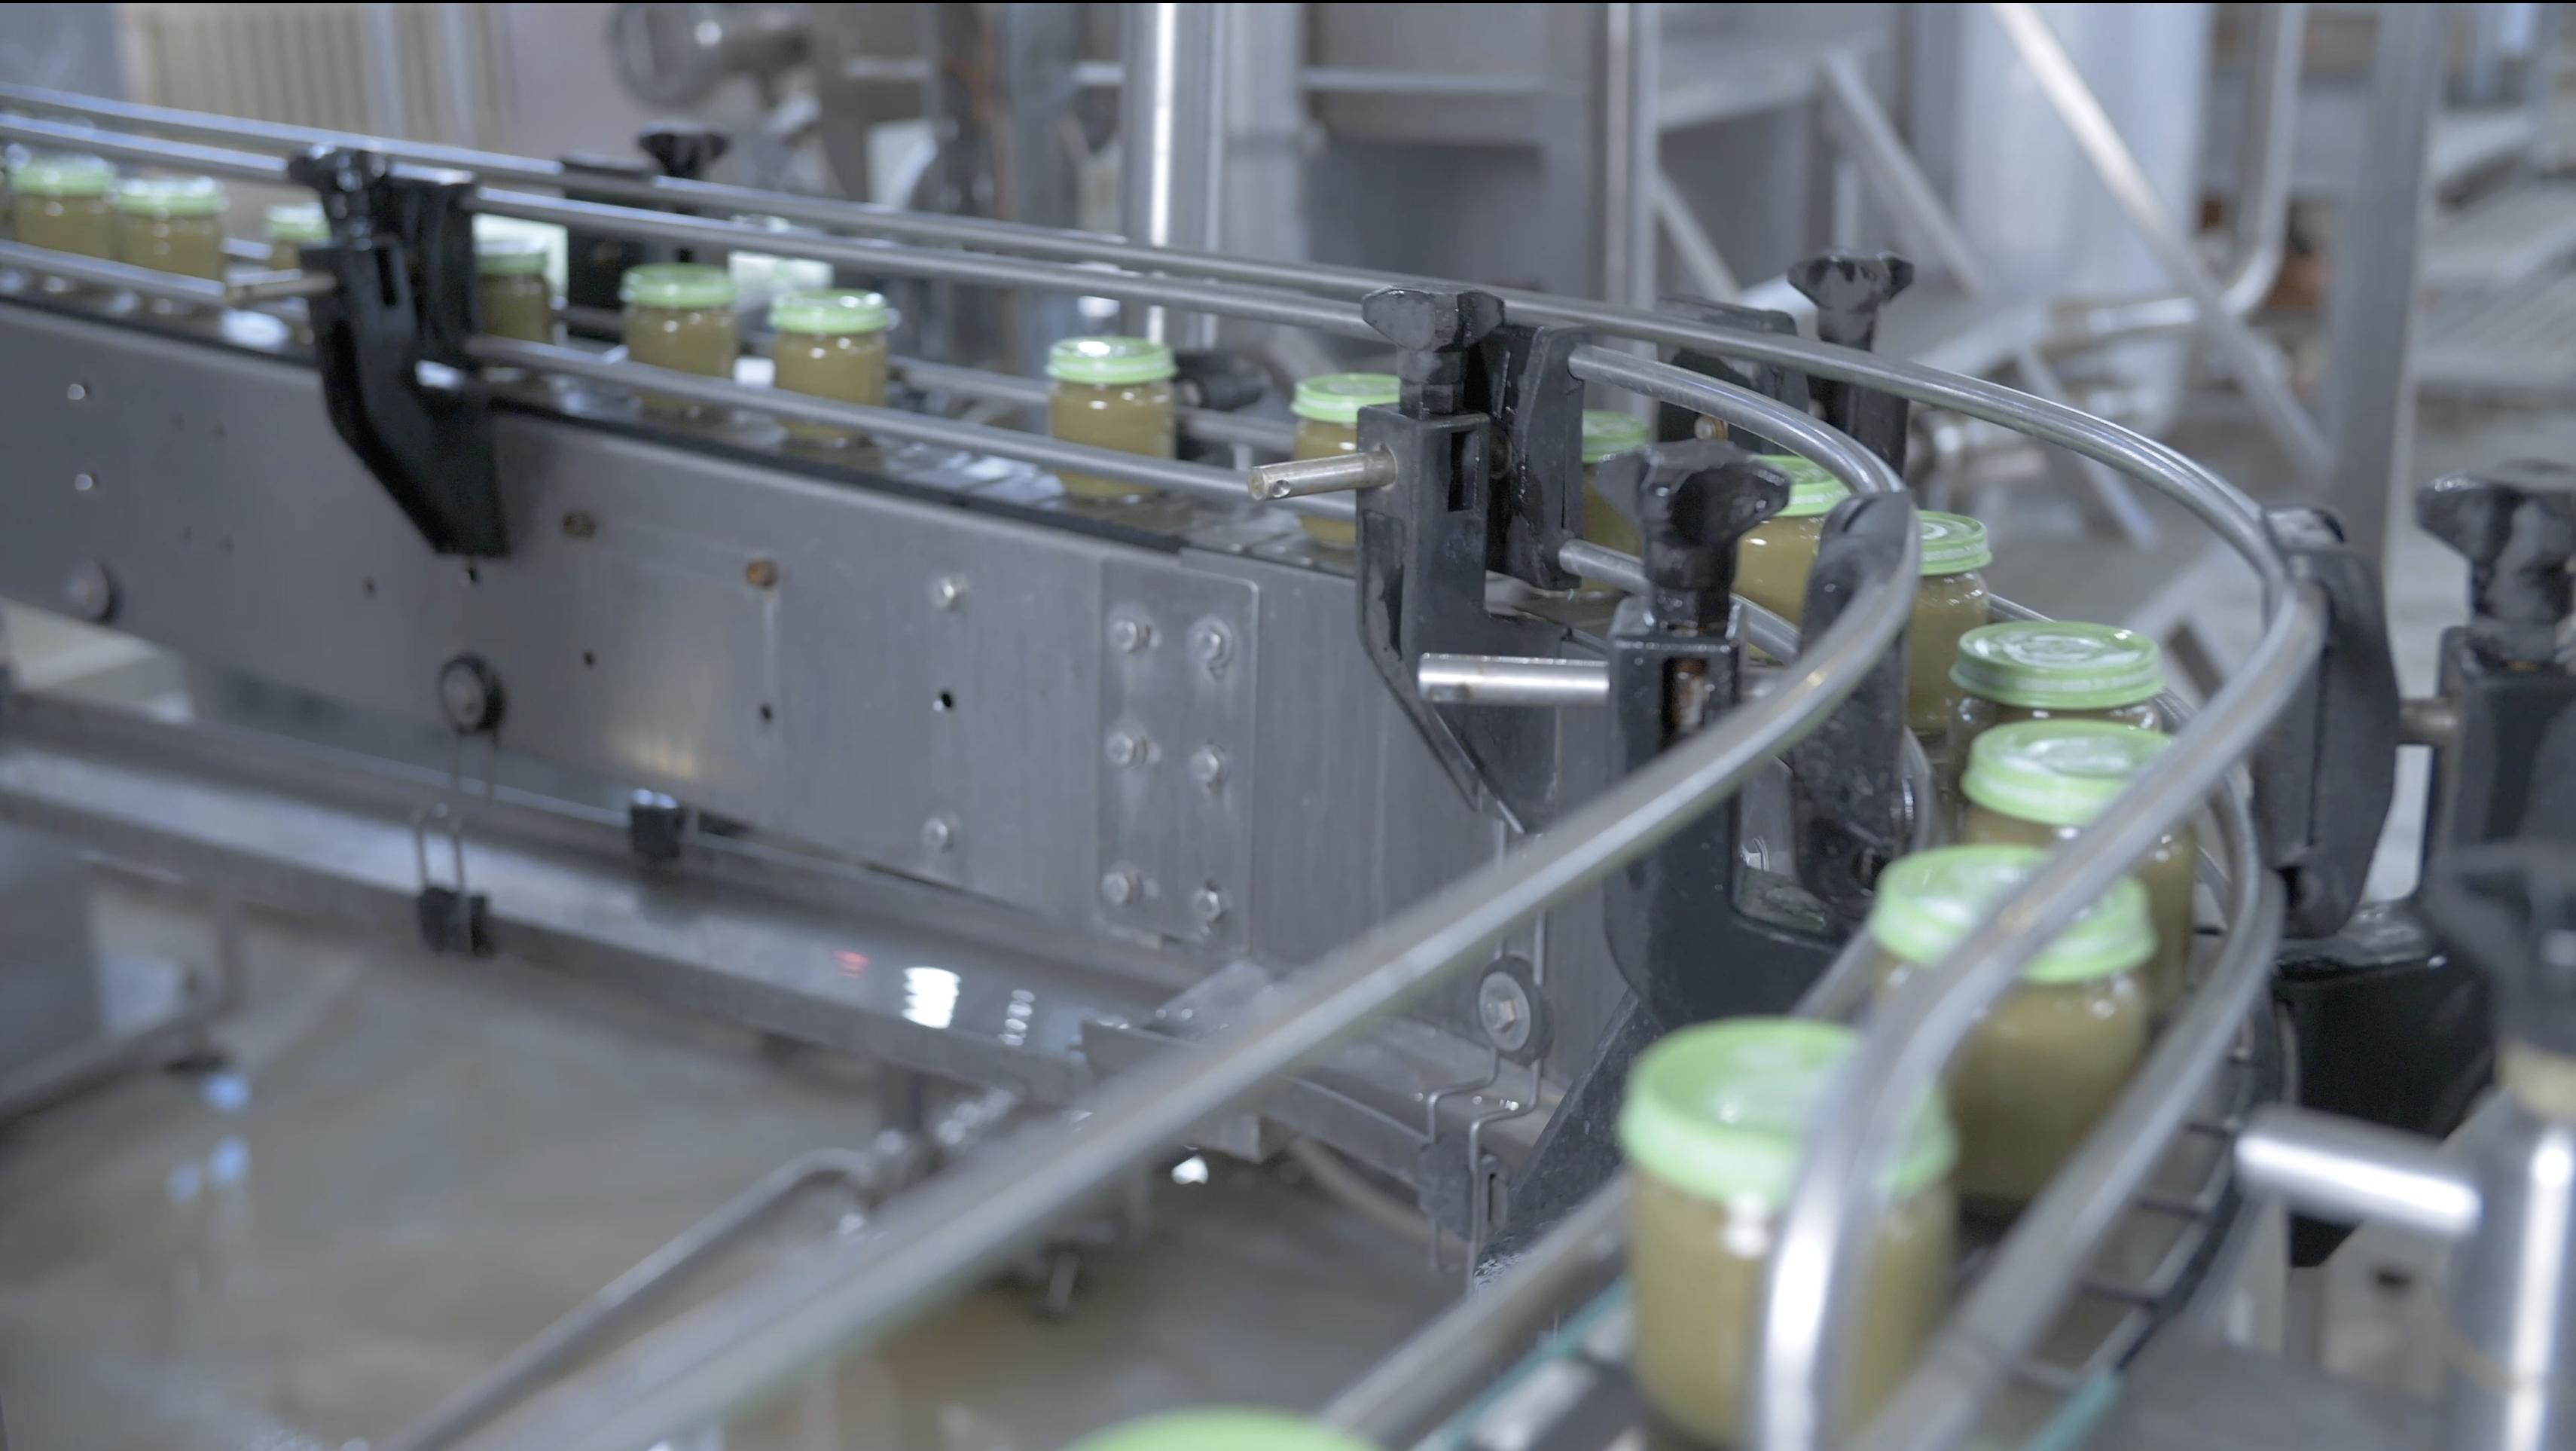jar: (1647, 1025, 1951, 1426), (1884, 832, 2153, 1170), (1054, 343, 1180, 517), (771, 297, 895, 430), (628, 267, 711, 414), (481, 235, 563, 382), (120, 180, 239, 278), (9, 165, 126, 255)
